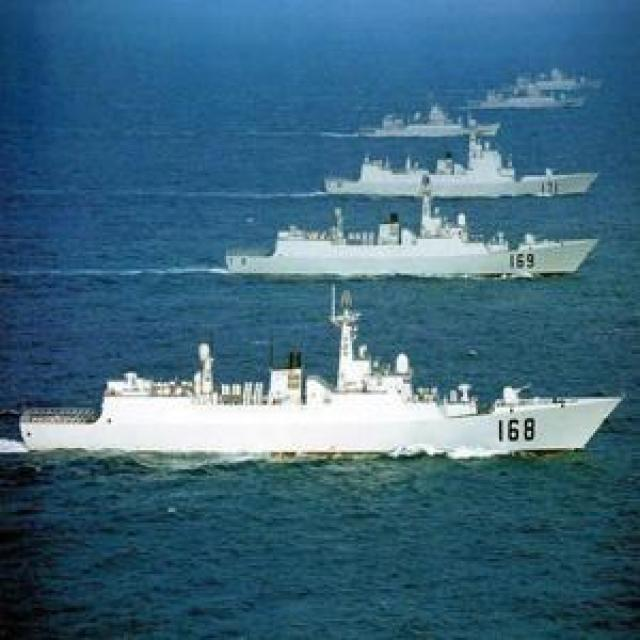navalvessels: (29, 331, 638, 515), (215, 190, 621, 276), (344, 127, 596, 213), (347, 95, 504, 150), (451, 79, 571, 114), (512, 55, 600, 82)
